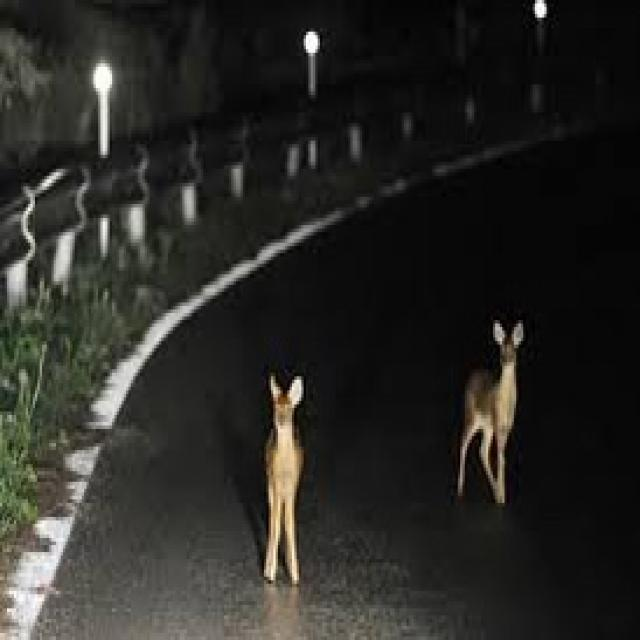elk: (220, 223, 338, 608), (418, 297, 547, 514)
